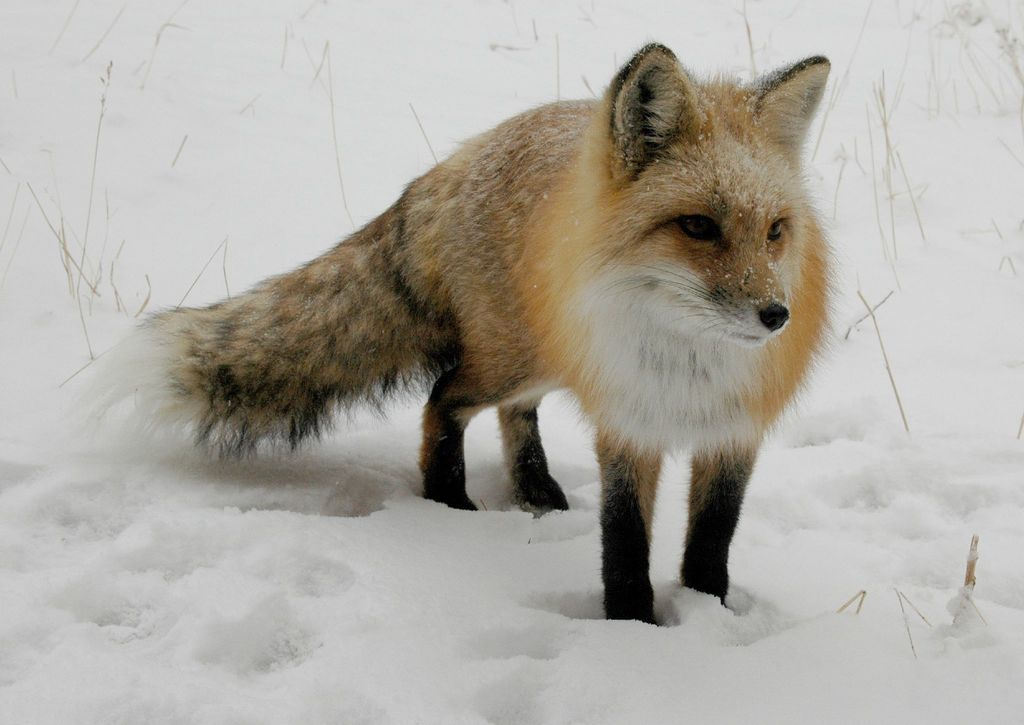face: (538, 85, 807, 451)
